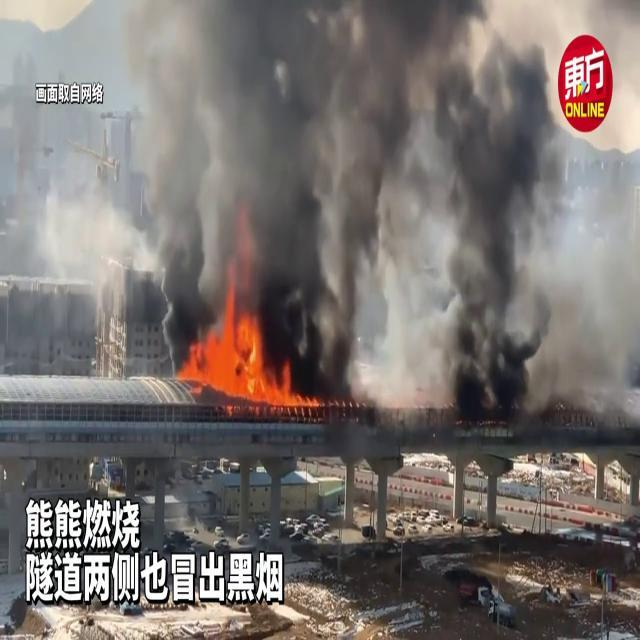Fire: (178, 286, 316, 412)
Smoke: (90, 1, 640, 402)
